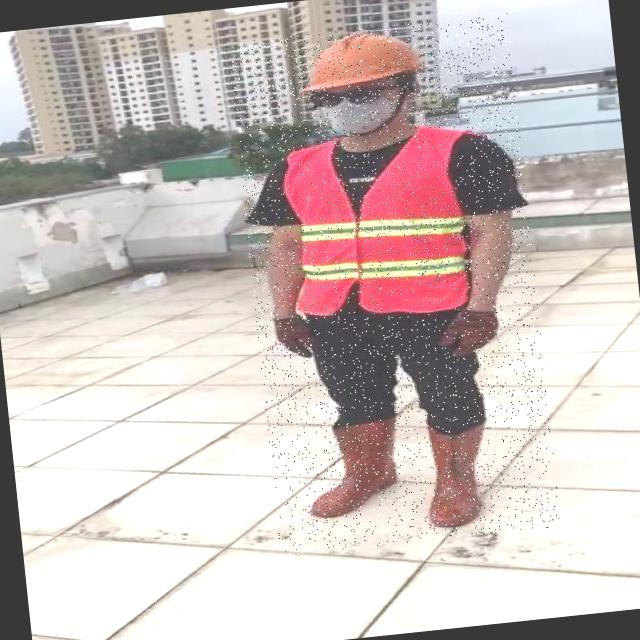boots: (302, 418, 404, 520), (415, 420, 492, 530)
gloves: (438, 304, 502, 358), (274, 314, 317, 360)
helmet: (294, 24, 420, 90)
vest: (276, 124, 478, 326)
